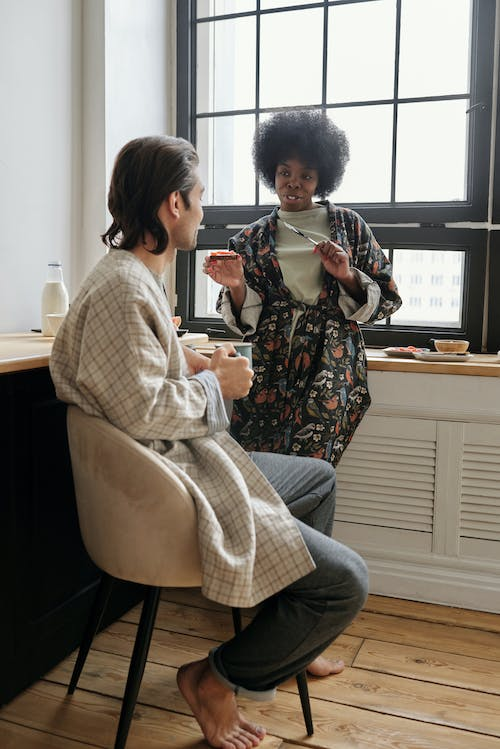knife: (278, 217, 319, 249)
